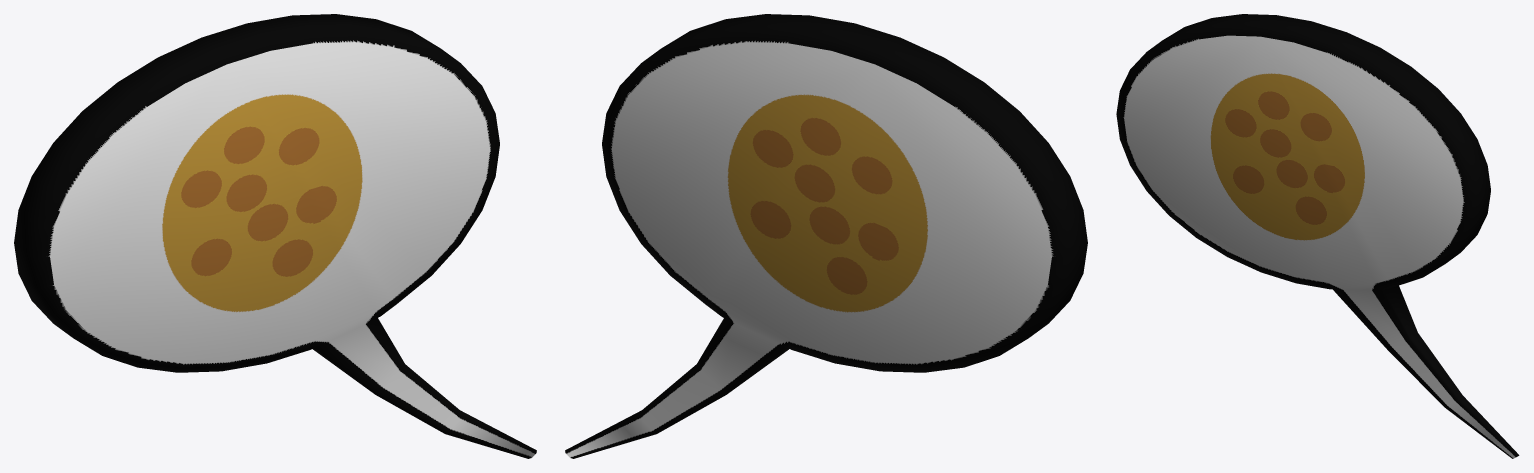
Rendered from PepperoniPizzaRequest.fbx.
3 views of the same model, side by side, from view 1: azimuth 30°, elevation 25°; view 2: azimuth 150°, elevation 25°; view 3: azimuth 330°, elevation 25° (orthographic). The views are drawn at different scales.
Visible parts, largest first — view 1: PepperoniPizzaRequest; view 2: PepperoniPizzaRequest; view 3: PepperoniPizzaRequest.
Part boxes in pixels (x1=…): PepperoniPizzaRequest: x1=14, y1=14, x2=536, y2=458; PepperoniPizzaRequest: x1=565, y1=14, x2=1087, y2=458; PepperoniPizzaRequest: x1=1116, y1=14, x2=1519, y2=458.
Size of the model in its own units: 220 by 203 by 19.37.
